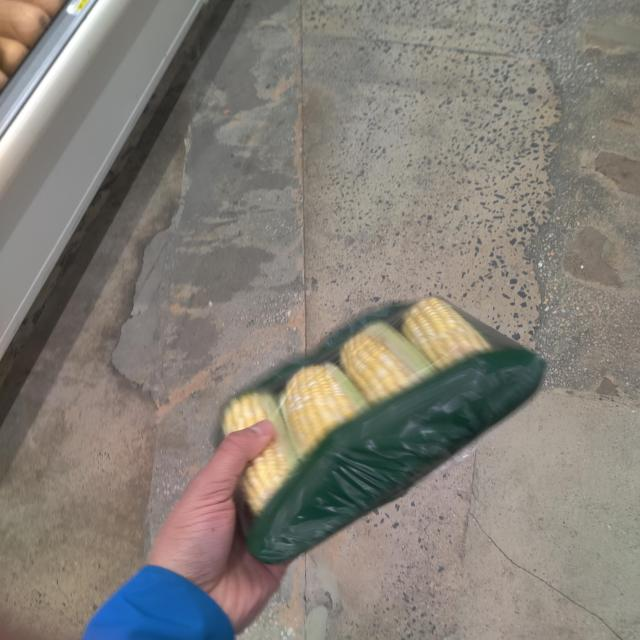Corn: (190, 280, 546, 538)
